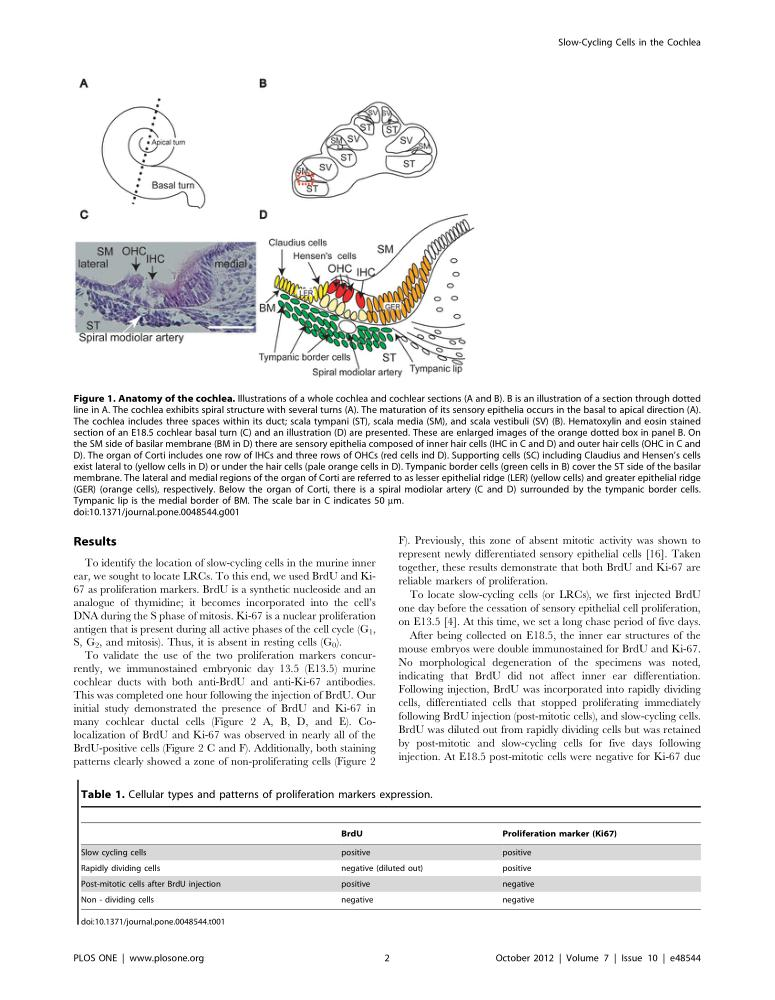table: (80, 829, 616, 904)
